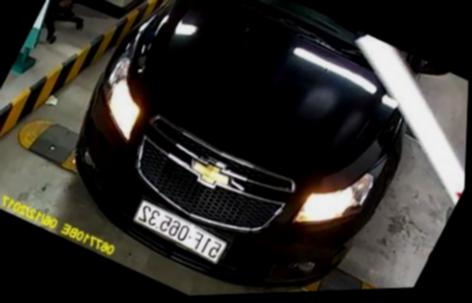License_Plate: (128, 193, 241, 263)
